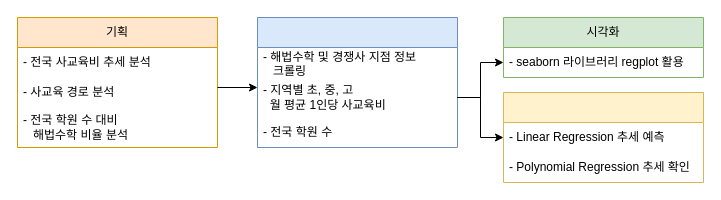
This 721x200 diagram has some shape labels left out. The box of each missing label's shape, as (x1, y1, x2, y2) in pixels:
데이터 수집: (256, 16, 458, 148)
모델링: (502, 92, 704, 182)
